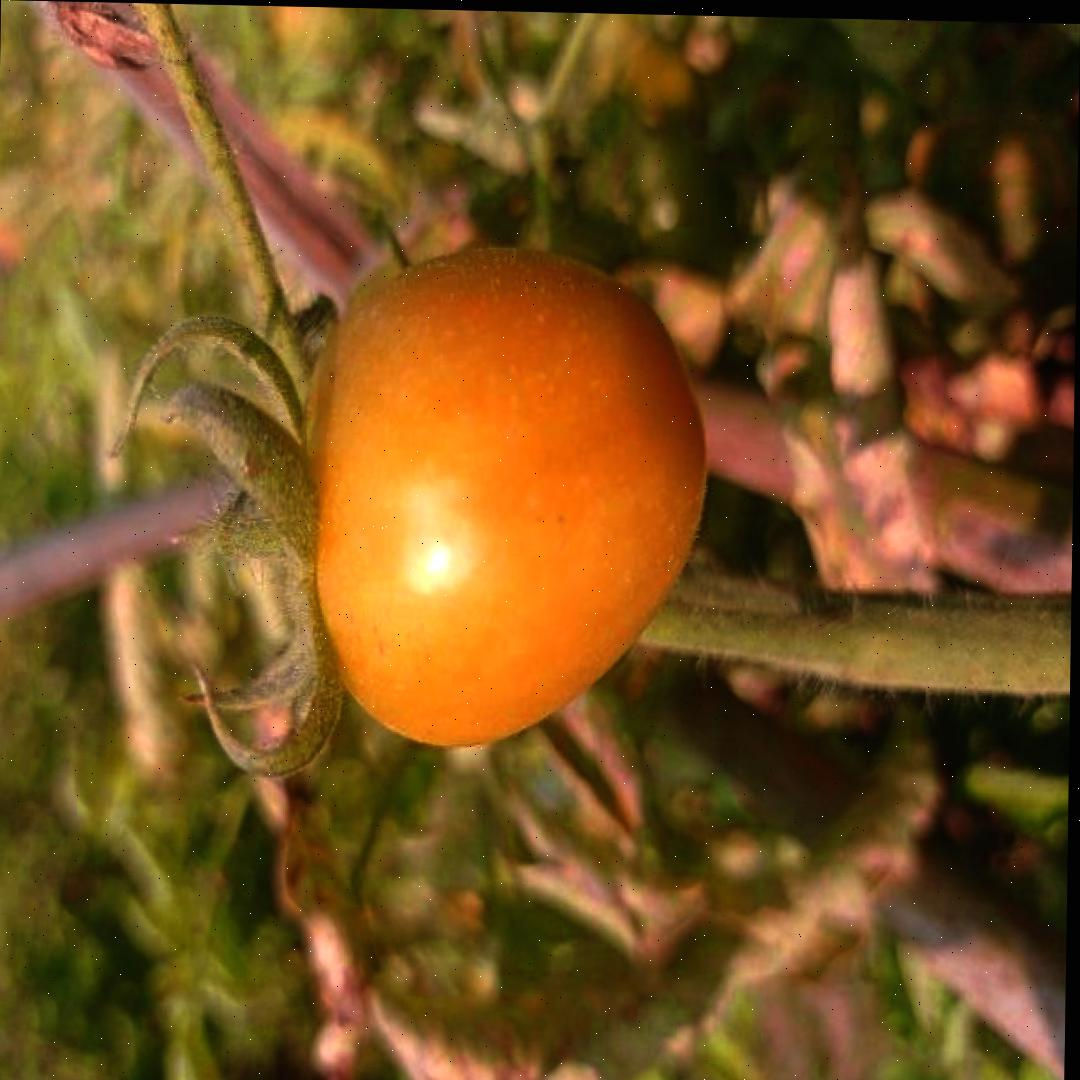setengah_matang: (287, 233, 713, 757)
